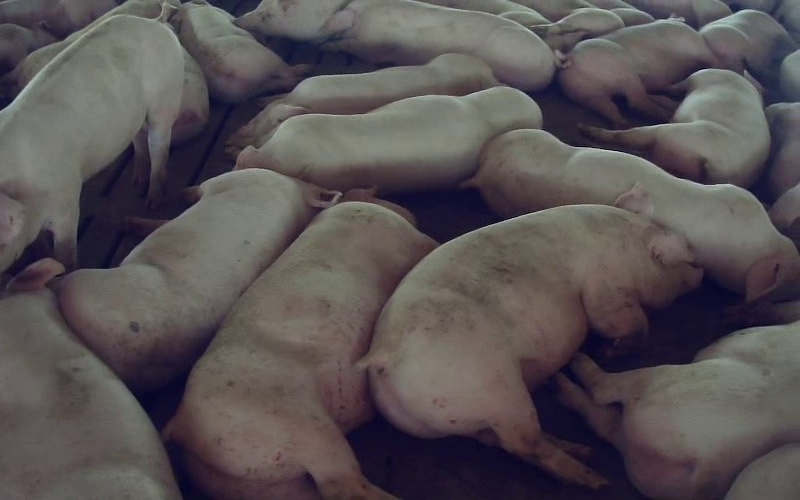pig: (360, 186, 701, 487), (164, 191, 436, 499), (57, 169, 339, 389), (467, 129, 799, 300), (0, 15, 183, 273), (0, 259, 179, 499), (558, 321, 799, 499), (237, 86, 541, 192), (226, 53, 499, 155), (580, 69, 769, 186), (324, 0, 555, 90), (558, 19, 717, 127), (172, 0, 308, 102), (699, 10, 795, 79)
